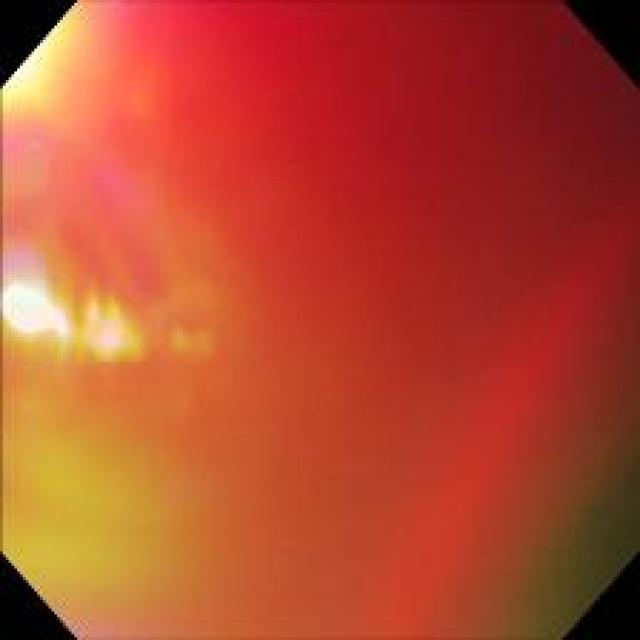color misalignment: (9, 12, 632, 628)
saturation: (0, 281, 75, 340), (80, 299, 138, 358)
